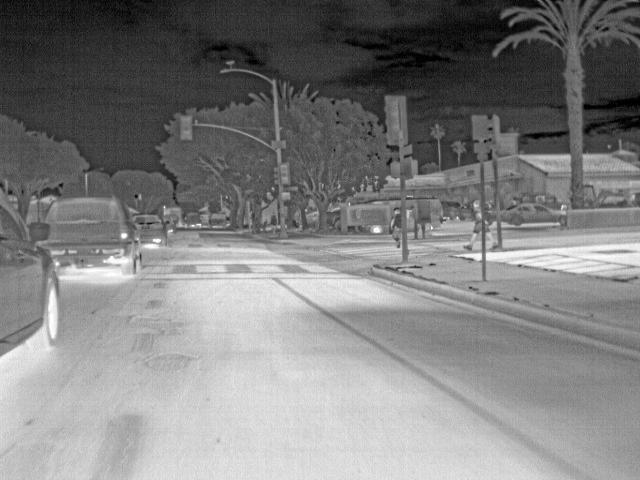car: (0, 185, 70, 362), (46, 196, 142, 276), (501, 203, 565, 226), (132, 213, 169, 246), (411, 199, 433, 225), (541, 195, 565, 210), (443, 199, 461, 218), (460, 199, 475, 219), (184, 210, 201, 226), (166, 211, 182, 228), (305, 210, 320, 228), (325, 209, 339, 228), (211, 213, 227, 228), (373, 199, 407, 206), (162, 204, 185, 214), (201, 214, 213, 225)
person: (461, 196, 481, 250), (388, 206, 402, 248), (409, 203, 425, 239)
